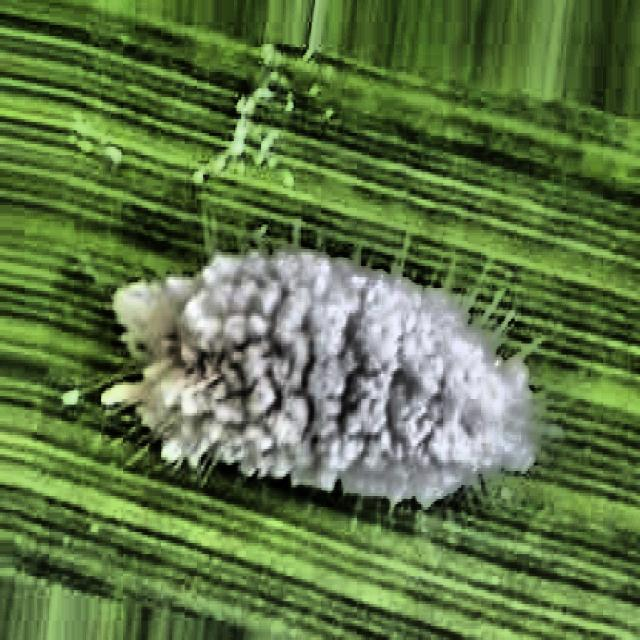Mealy-bug: (90, 204, 567, 544)
